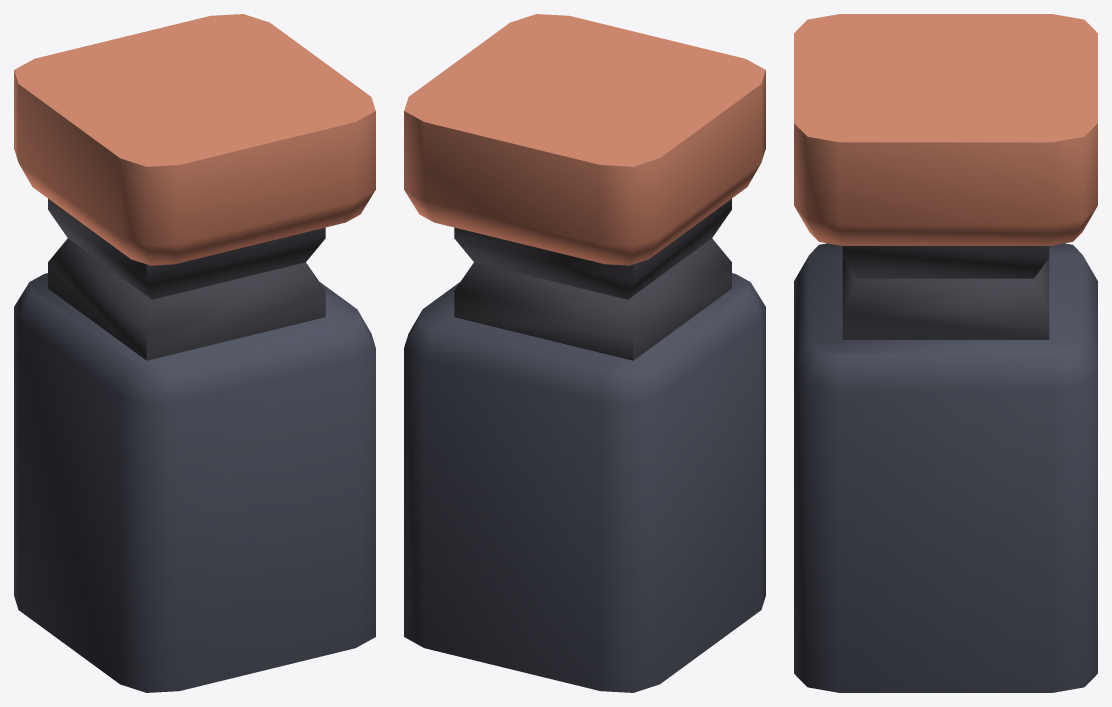
The model's file is piston-thin-square.obj.
3 views of the same model, side by side, from view 1: azimuth 30°, elevation 25°; view 2: azimuth 150°, elevation 25°; view 3: azimuth 270°, elevation 25° (orthographic). The views are drawn at different scales.
Visible parts, largest first — view 1: piston-thin-square, top; view 2: piston-thin-square, top; view 3: piston-thin-square, top.
Part boxes in pixels (left/top/right/bottom): piston-thin-square: left=14, top=238, right=375, bottom=692; top: left=14, top=14, right=375, bottom=299; piston-thin-square: left=404, top=238, right=765, bottom=692; top: left=404, top=14, right=765, bottom=299; piston-thin-square: left=794, top=243, right=1097, bottom=692; top: left=794, top=14, right=1097, bottom=278.
Bounding box in the file's own units: 0.5 × 1 × 0.5.
